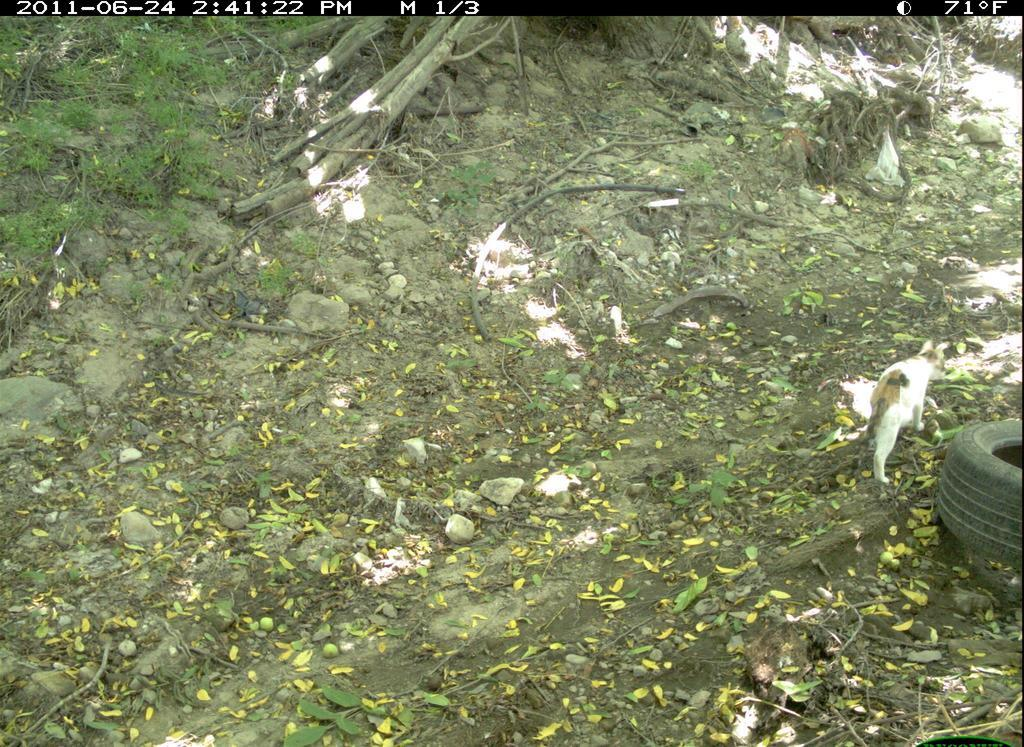cat: (839, 316, 961, 499)
